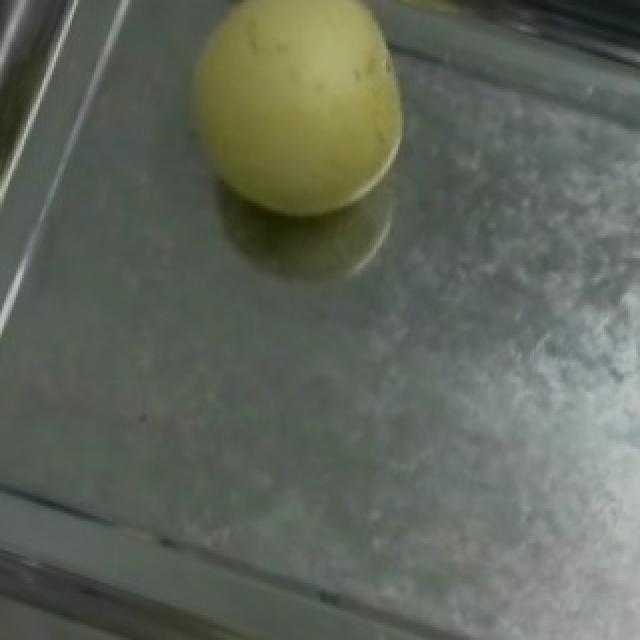Fruit: (140, 0, 442, 258)
